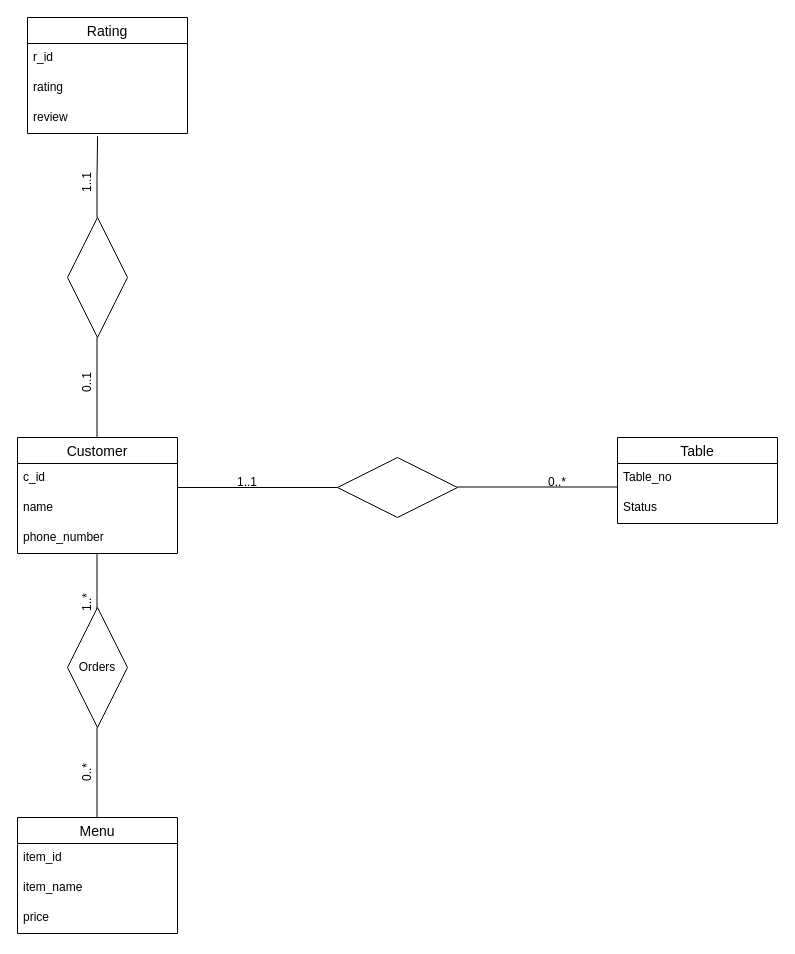
Some shapes in this 795 by 954 pixel diagram are drawn without their labels. Here are the shapes that lost their labels. From the top down, the centre of each, then its label:
At point (97, 277): "Gives".
At point (397, 487): "Relationship".
